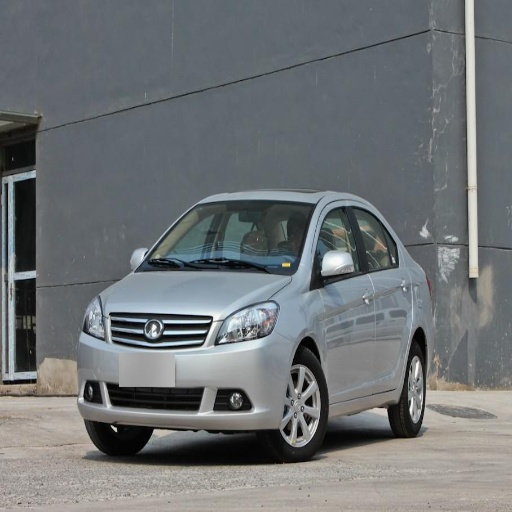front_bumper: (77, 312, 295, 429)
front_glass: (137, 201, 314, 275)
front_left_door: (314, 201, 376, 401)
